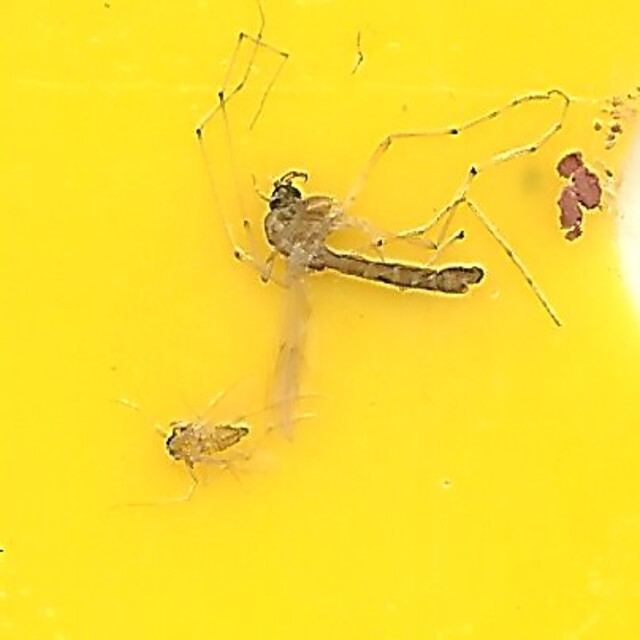Nematocera: (252, 170, 482, 302), (158, 404, 253, 470)
